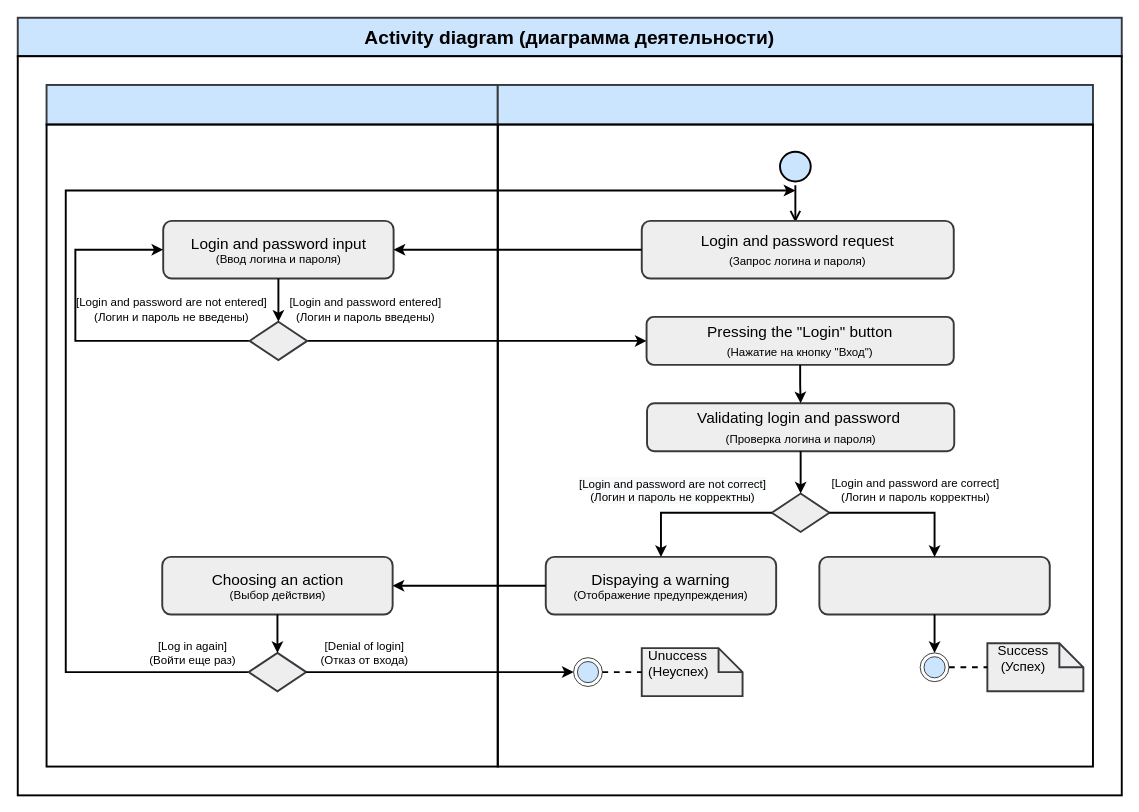
The diagram is 1139 pixels wide and 812 high, and some of its shapes have lost their labels. The centre of each missing label's shape, as x and y in pixels:
Administrator (Администратор): (271,104)
Authorization system (Система авторизации): (794,104)
Dispaying the main admin page (Отображение главной страницы администратора): (934,585)
